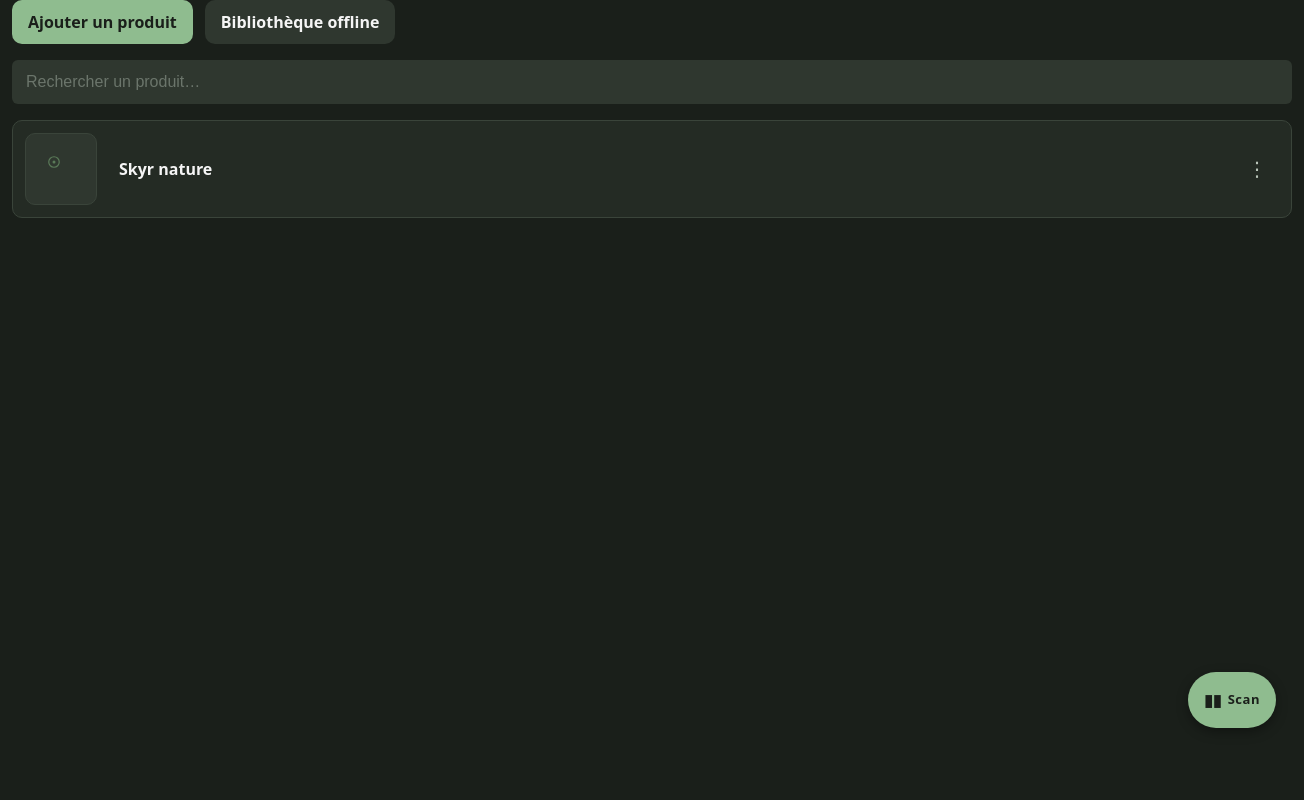
Test case: ProductsPageComponent › shows no-results message when search matches nothing
Type "inexistantzzzz" into the search field with placeholder "Rechercher un produit…" at (652, 82), box left=12, top=60, right=1292, bottom=104
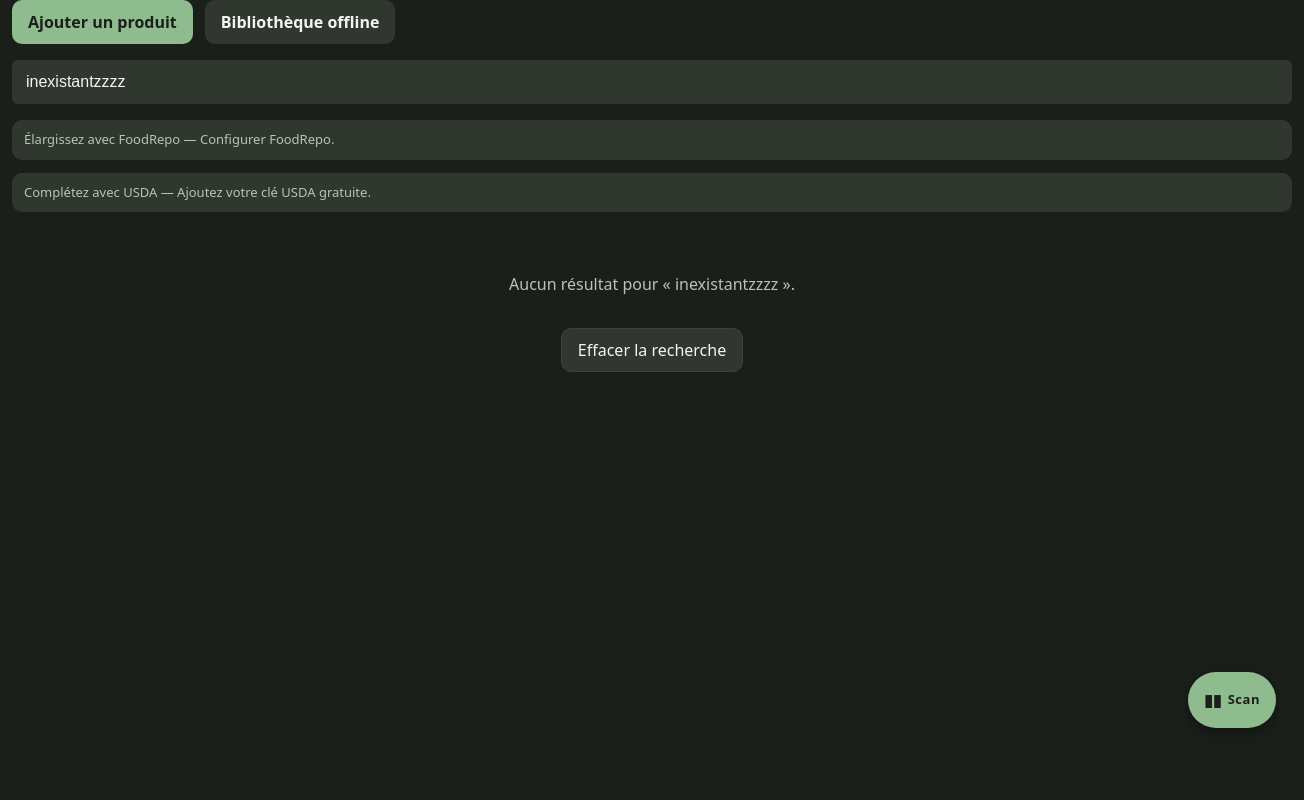
Result: the text "Aucun résultat pour « inexistantzzzz »." is shown at left=509, top=272, right=795, bottom=296
